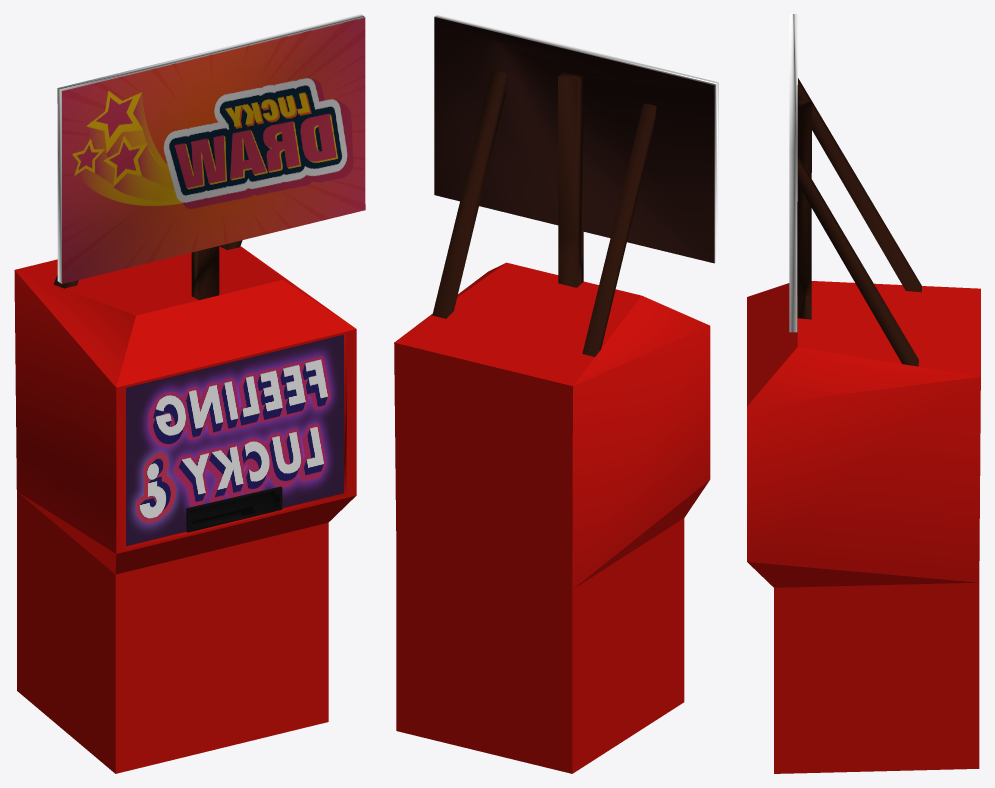
Rendered from Kiosk2_LuckyDraw.obj.
3 views of the same model, side by side, from view 1: azimuth 30°, elevation 25°; view 2: azimuth 150°, elevation 25°; view 3: azimuth 270°, elevation 25° (orthographic). The views are drawn at different scales.
Parts seen in each view (by area): view 1: Kiosk_Cube.003, LuckyDraw_Cube.004, Frame_Plane; view 2: Kiosk_Cube.003, LuckyDraw_Cube.004; view 3: Kiosk_Cube.003, LuckyDraw_Cube.004.
Boxes of the visible parts, <box> form: Kiosk_Cube.003: <box>14,246,356,773</box>; LuckyDraw_Cube.004: <box>53,14,365,299</box>; Frame_Plane: <box>126,334,343,546</box>; Kiosk_Cube.003: <box>394,262,710,773</box>; LuckyDraw_Cube.004: <box>432,14,718,356</box>; Kiosk_Cube.003: <box>747,281,980,773</box>; LuckyDraw_Cube.004: <box>789,14,921,366</box>.
Size of the model in its own units: 3.19 by 6.9 by 2.28.
